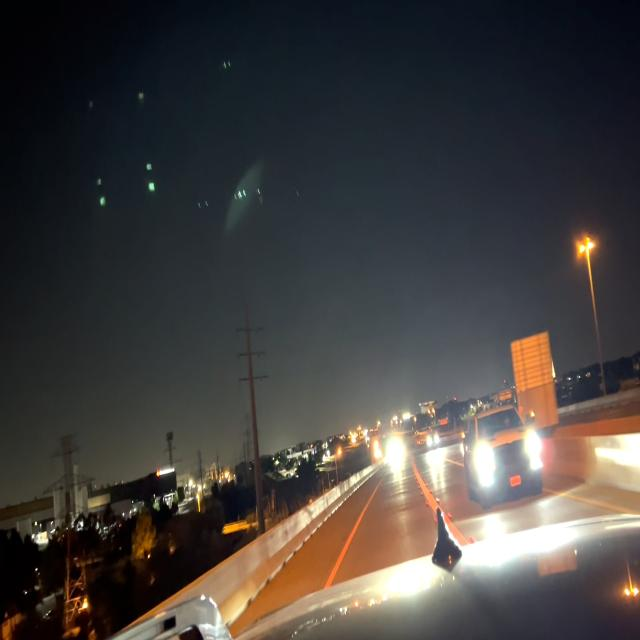back-of-sign: (512, 337, 556, 394)
